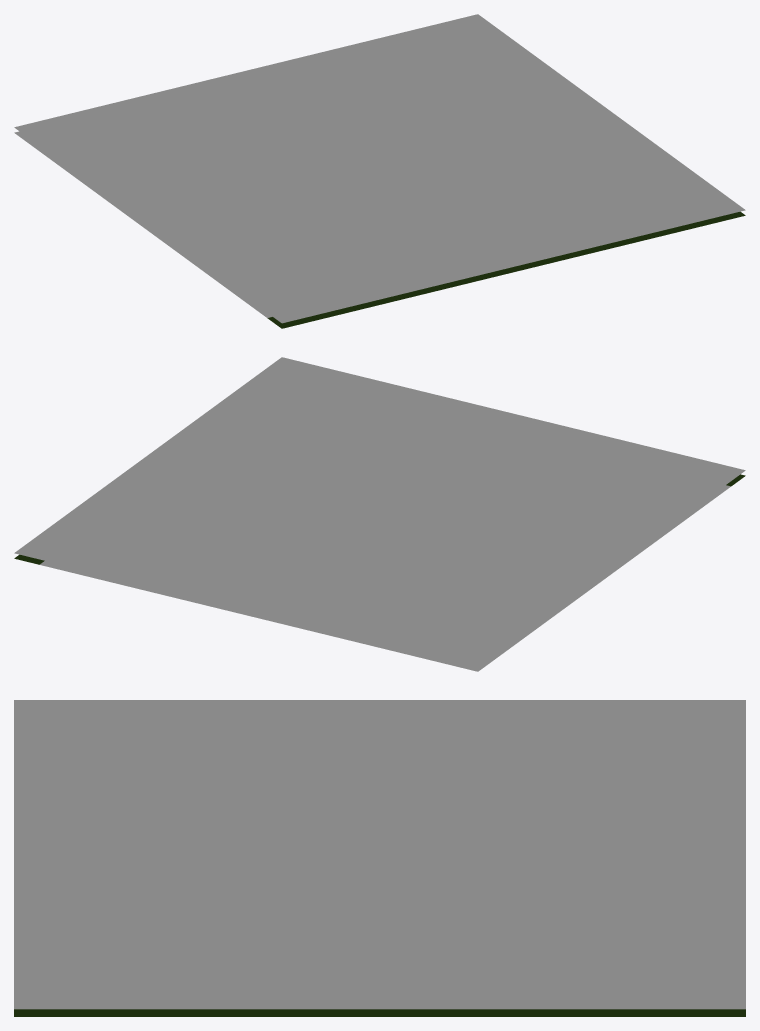
Rendered from RT PARK V01 T01 QRB SNAP.FBX.
3 views of the same model, one above another, from view 1: azimuth 30°, elevation 25°; view 2: azimuth 150°, elevation 25°; view 3: azimuth 270°, elevation 25° (orthographic). The views are drawn at different scales.
Parts seen in each view (by area): view 1: RT PARK V01 T01 QRB SNAP, RT PARK V01 T01 QRB; view 2: RT PARK V01 T01 QRB SNAP, RT PARK V01 T01 QRB; view 3: RT PARK V01 T01 QRB SNAP, RT PARK V01 T01 QRB.
Part boxes in pixels (box(x1,y1,x2,y2)): RT PARK V01 T01 QRB SNAP: box(14, 14, 745, 323); RT PARK V01 T01 QRB: box(14, 131, 745, 328); RT PARK V01 T01 QRB SNAP: box(14, 357, 745, 666); RT PARK V01 T01 QRB: box(14, 474, 745, 671); RT PARK V01 T01 QRB SNAP: box(14, 700, 745, 1009); RT PARK V01 T01 QRB: box(14, 1009, 745, 1016).
Bounding box in the file's own units: 90 × 1 × 90.
